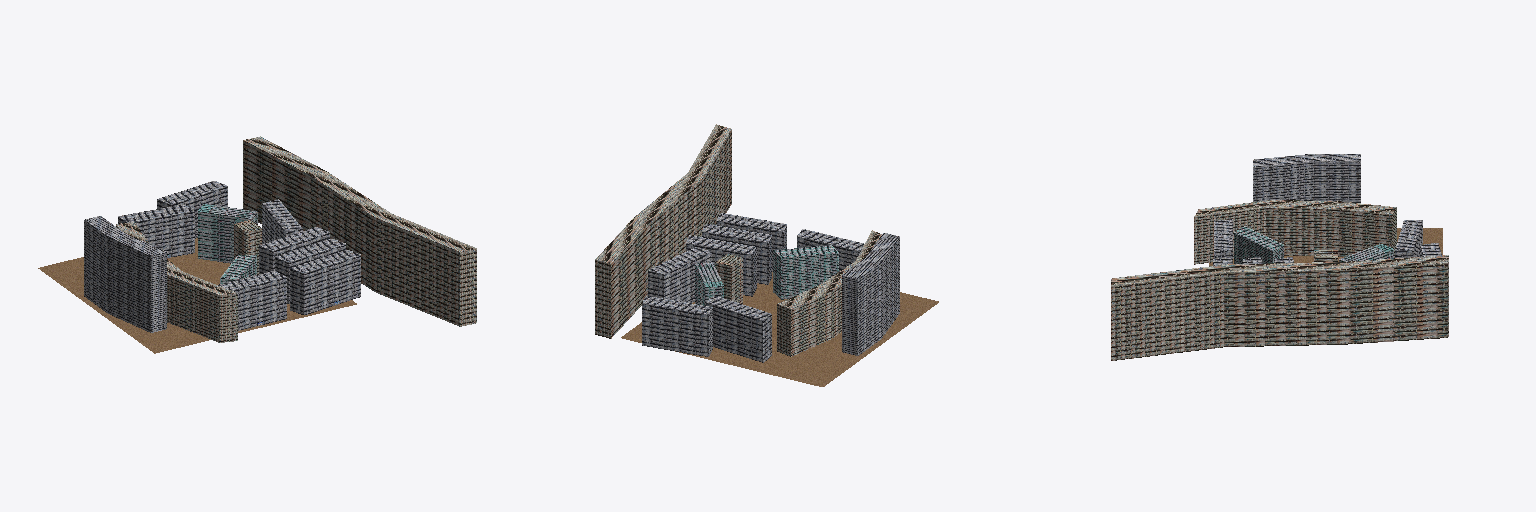
3 views of the same model, side by side, from view 1: azimuth 30°, elevation 25°; view 2: azimuth 150°, elevation 25°; view 3: azimuth 270°, elevation 25° (orthographic).
Parts seen in each view (by area): view 1: Cube.010, Cube.012, Cube.003, Plane, Cube.006_Cube.007, Cube.005_Cube.006, Cube.004_Cube.005, Cube.002, Cube.011, Cube.008_Cube.009, Cube.007_Cube.008, Cube.009_Cube.001 (+2 smaller); view 2: Cube.010, Plane, Cube.012, Cube.003, Cube.011, Cube.004_Cube.005, Cube.001_Cube.004, Cube.009_Cube.001, Cube.007_Cube.008, Cube.008_Cube.009, Cube.006_Cube.007, Cube.005_Cube.006 (+2 smaller); view 3: Cube.010, Cube.003, Cube.012, Cube.001_Cube.004, Cube.004_Cube.005, Cube.005_Cube.006, Plane, Cube.002.
Part boxes in pixels (x1,y1,x2,y2): Cube.010: (243,136,476,326); Cube.012: (84,216,166,332); Cube.003: (116,222,237,342); Plane: (38,238,356,353); Cube.006_Cube.007: (290,250,360,314); Cube.005_Cube.006: (218,271,286,330); Cube.004_Cube.005: (118,204,194,257); Cube.002: (198,204,257,263); Cube.011: (157,181,227,238); Cube.008_Cube.009: (259,227,329,273); Cube.007_Cube.008: (275,239,345,303); Cube.009_Cube.001: (262,199,302,243); Cube.010: (595,124,731,338); Plane: (621,272,938,386); Cube.012: (842,233,899,355); Cube.003: (777,230,881,356); Cube.011: (642,296,712,356); Cube.004_Cube.005: (706,295,771,362); Cube.001_Cube.004: (773,245,838,299); Cube.009_Cube.001: (648,247,711,302); Cube.007_Cube.008: (702,224,771,284); Cube.008_Cube.009: (686,235,756,296); Cube.006_Cube.007: (717,213,786,271); Cube.005_Cube.006: (797,229,863,271); Cube.010: (1111,255,1448,360); Cube.003: (1194,200,1396,264); Cube.012: (1253,154,1360,202); Cube.001_Cube.004: (1234,226,1283,263); Cube.004_Cube.005: (1395,220,1422,257); Cube.005_Cube.006: (1214,219,1232,262); Plane: (1209,228,1442,265); Cube.002: (1339,244,1393,261).
Bounding box in the file's own units: 108 × 29.08 × 116.
Materials: 6 (6 with a texture image).